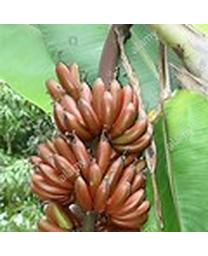banana: (28, 30, 154, 229)
